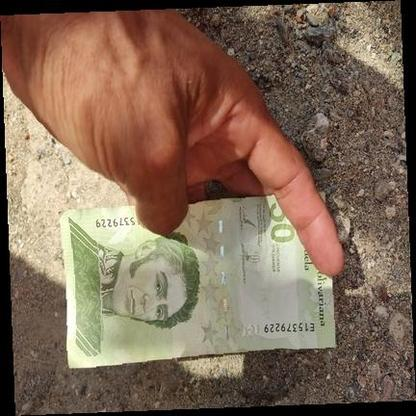fifty-front-vef: (60, 192, 336, 368)
